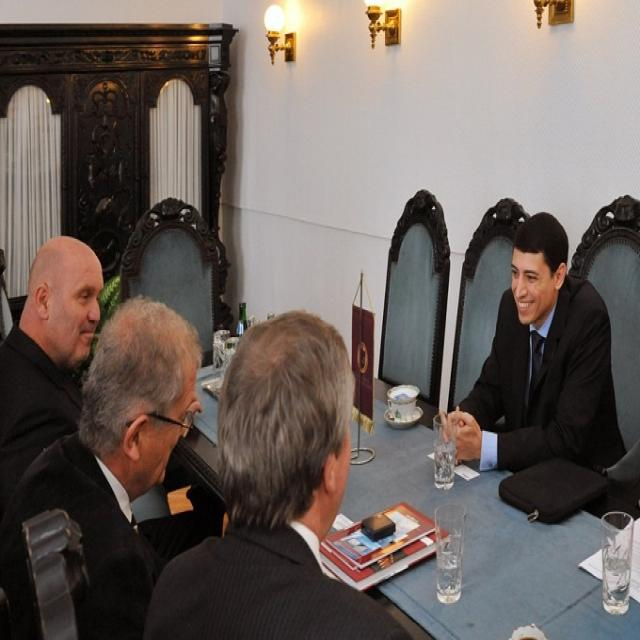body: (140, 307, 412, 640), (0, 291, 203, 640), (436, 208, 630, 520), (0, 231, 107, 540)
